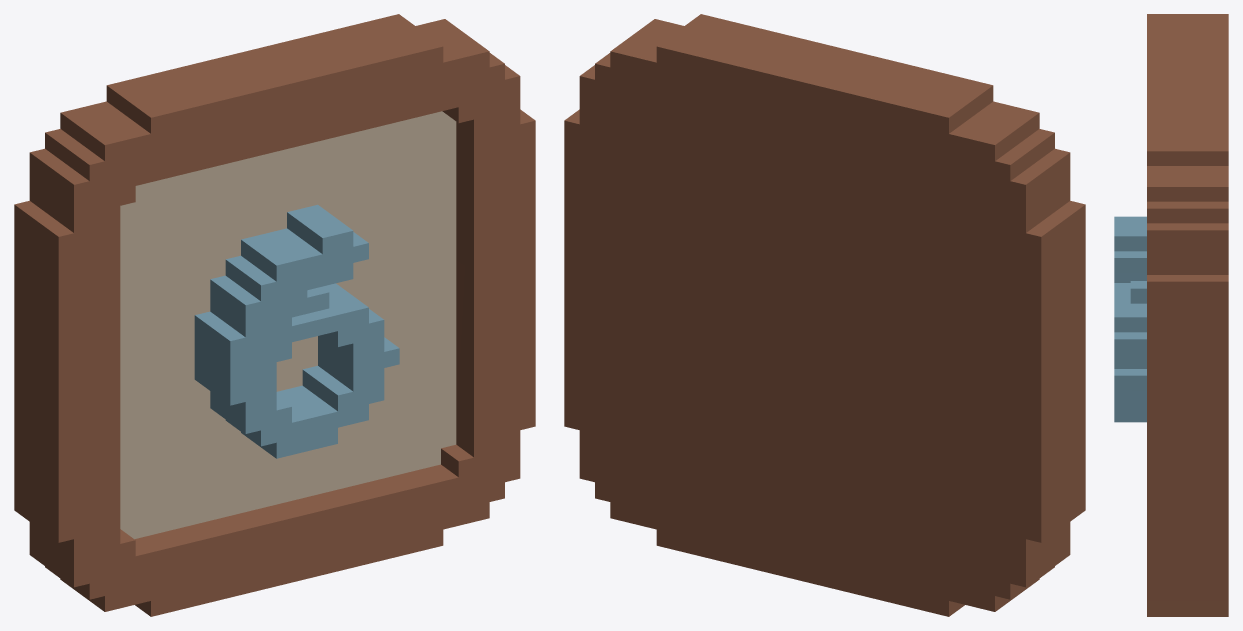
Rendered from roll_6.fbx.
The picture shows the model from 3 angles, left to right: view 1: azimuth 30°, elevation 25°; view 2: azimuth 150°, elevation 25°; view 3: azimuth 270°, elevation 25°; orthographic projection. The views are drawn at different scales.
Parts seen in each view (by area): view 1: OUT; view 2: OUT; view 3: OUT.
Part boxes in pixels (x1,y1,x2,y2): OUT: (14,14,535,616); OUT: (564,14,1085,616); OUT: (1114,14,1228,616).
Size of the model in its own units: 1.55 by 1.55 by 0.3502.
